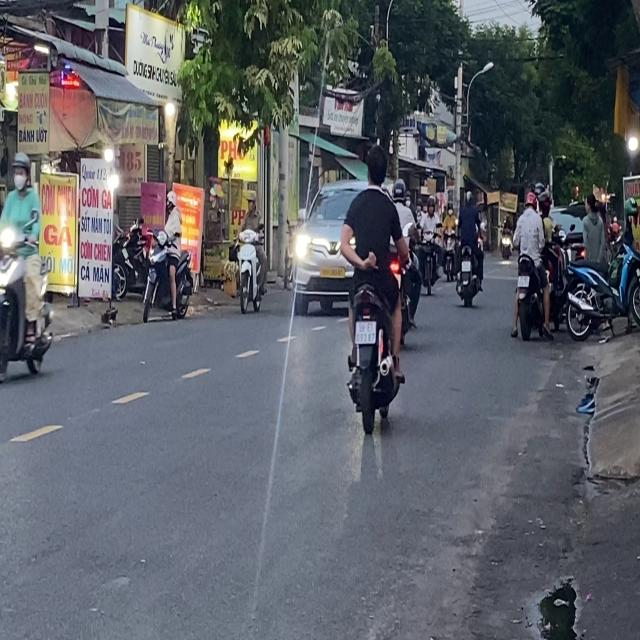helmet: (11, 150, 30, 190), (165, 191, 178, 210), (524, 190, 536, 210)
licenseplate: (338, 142, 410, 431), (0, 149, 55, 386), (141, 191, 196, 331), (511, 187, 552, 341), (234, 188, 267, 314)
motorcyclist: (364, 144, 388, 188), (246, 189, 256, 210)
nohelmet: (355, 320, 375, 343), (517, 275, 529, 287)
